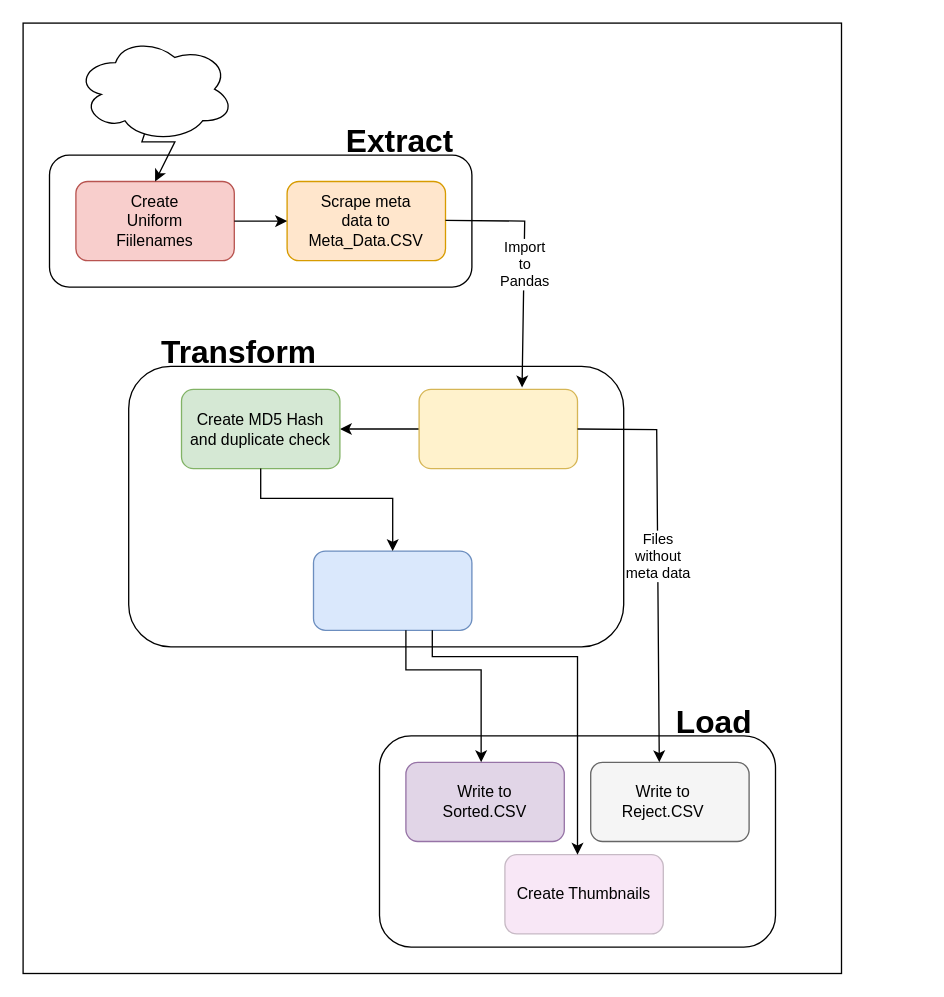
This 944x997 diagram has some shape labels left out. The shapes that lost their labels are listed below. From the top down, each one's centre as x and y in pixels, then its label:
point (154, 88): Input Photos
point (498, 428): Check rows for meta data
point (392, 590): Format datetime column
